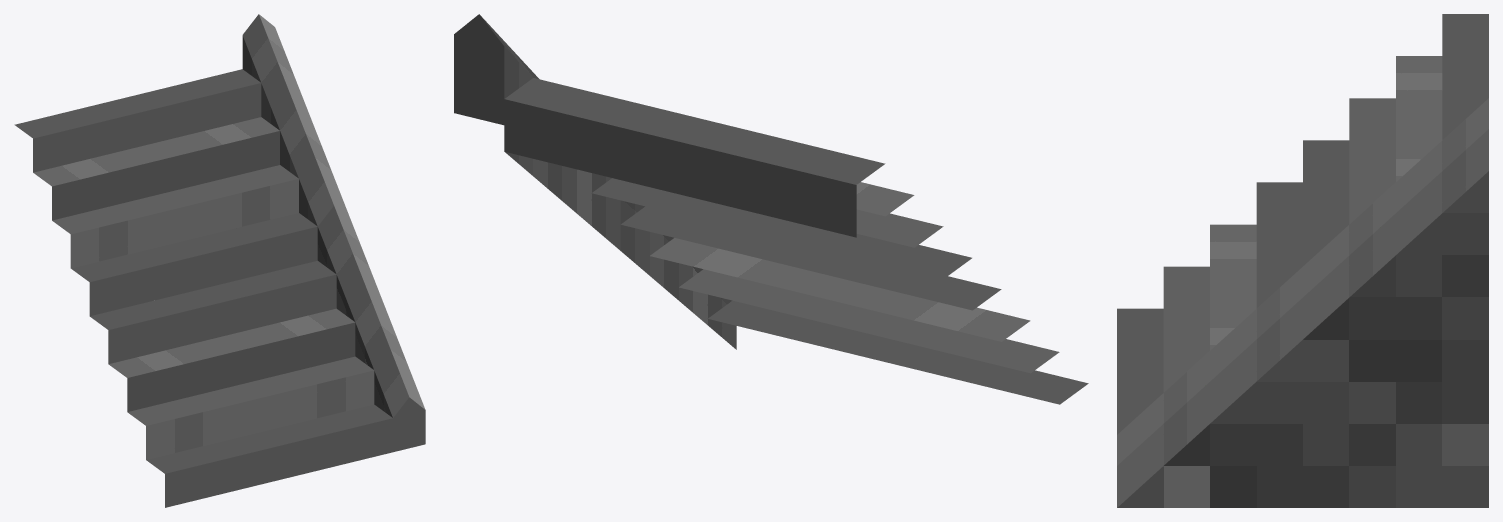
The model's file is fp_stairs_right.gltf.
The picture shows the model from 3 angles, left to right: view 1: azimuth 30°, elevation 25°; view 2: azimuth 150°, elevation 25°; view 3: azimuth 270°, elevation 25°; orthographic projection. The views are drawn at different scales.
Visible parts, largest first — view 1: fp_stairs_right; view 2: fp_stairs_right; view 3: fp_stairs_right.
Part boxes in pixels (box(x1,y1,x2,y2)): fp_stairs_right: box(14, 14, 425, 507); fp_stairs_right: box(454, 14, 1088, 404); fp_stairs_right: box(1117, 14, 1488, 507).
Bounding box in the file's own units: 1 × 1.19 × 1.
1 material, 1 textured.
